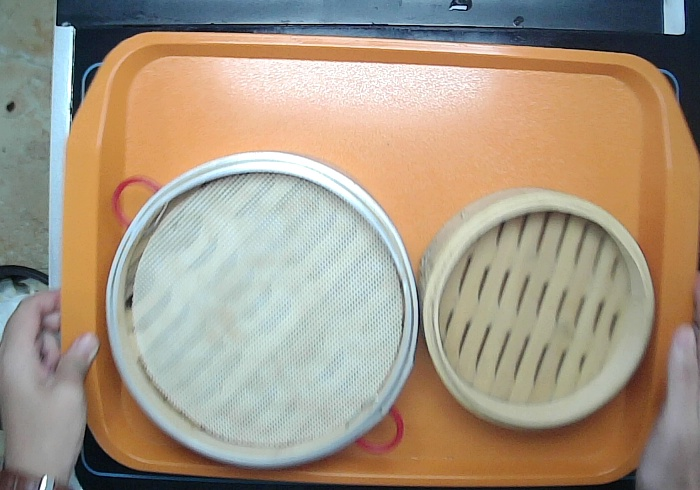ZNLD-Da_Zheng_Long: (103, 148, 420, 471)
ZNLD-Xiao_Zheng_Long: (419, 188, 657, 432)
